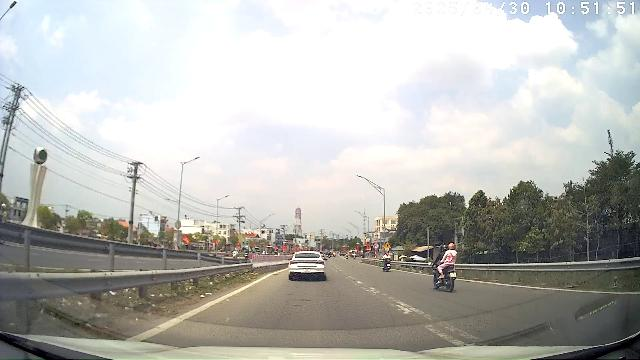123b-cam-re-phai: (373, 243, 379, 249)
